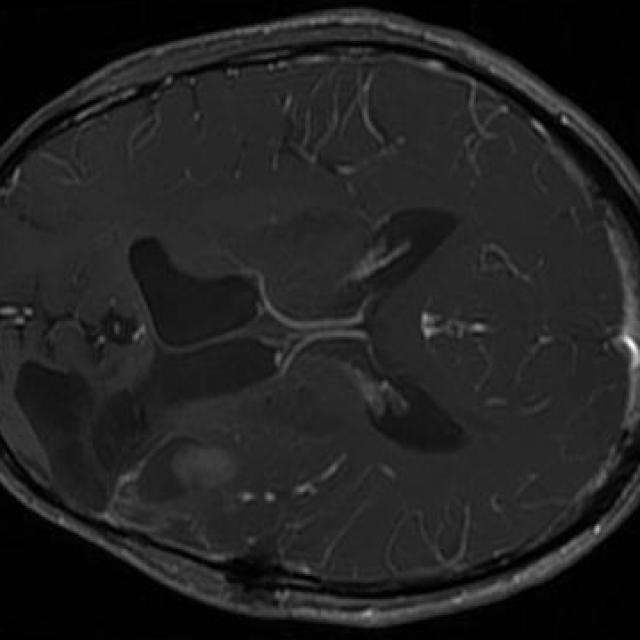glioma: (16, 362, 237, 526)
